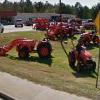Tractor: (12, 28, 57, 64)
